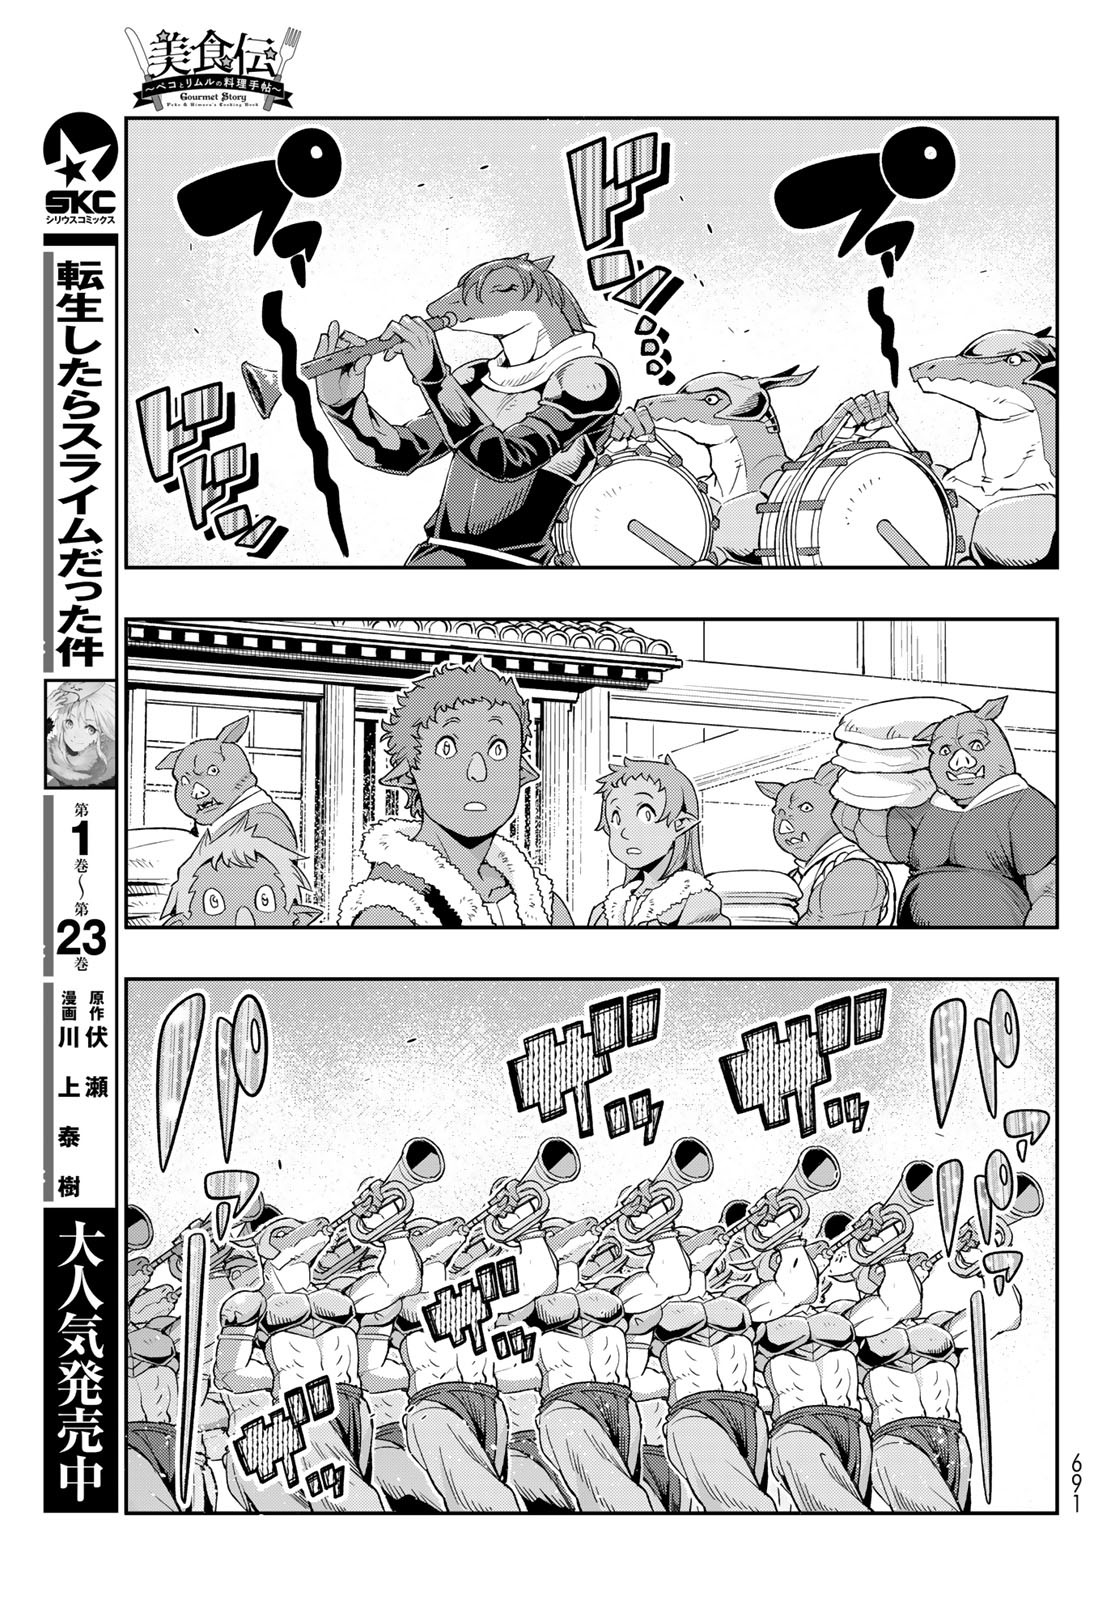bubble: (140, 987, 287, 1291), (554, 119, 704, 399), (237, 1370, 379, 1512), (120, 19, 306, 116)
